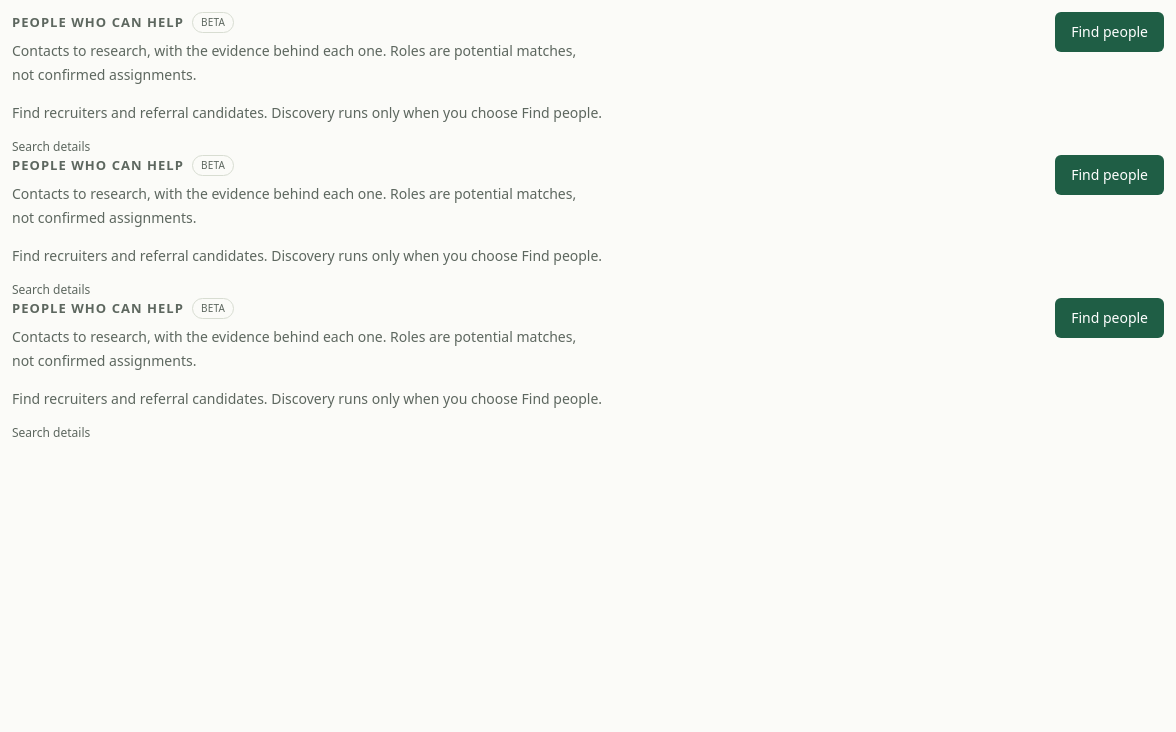
Test: People Who Can Help — three-company provider scenario › keeps one card's failure out of another card's state
This screenshot has width=1176, height=732.
What coordinates should you click on to do the following:
click the 1st button "Find people"
I would click on:
 (1110, 32)
Its box is [1055,12,1164,52].
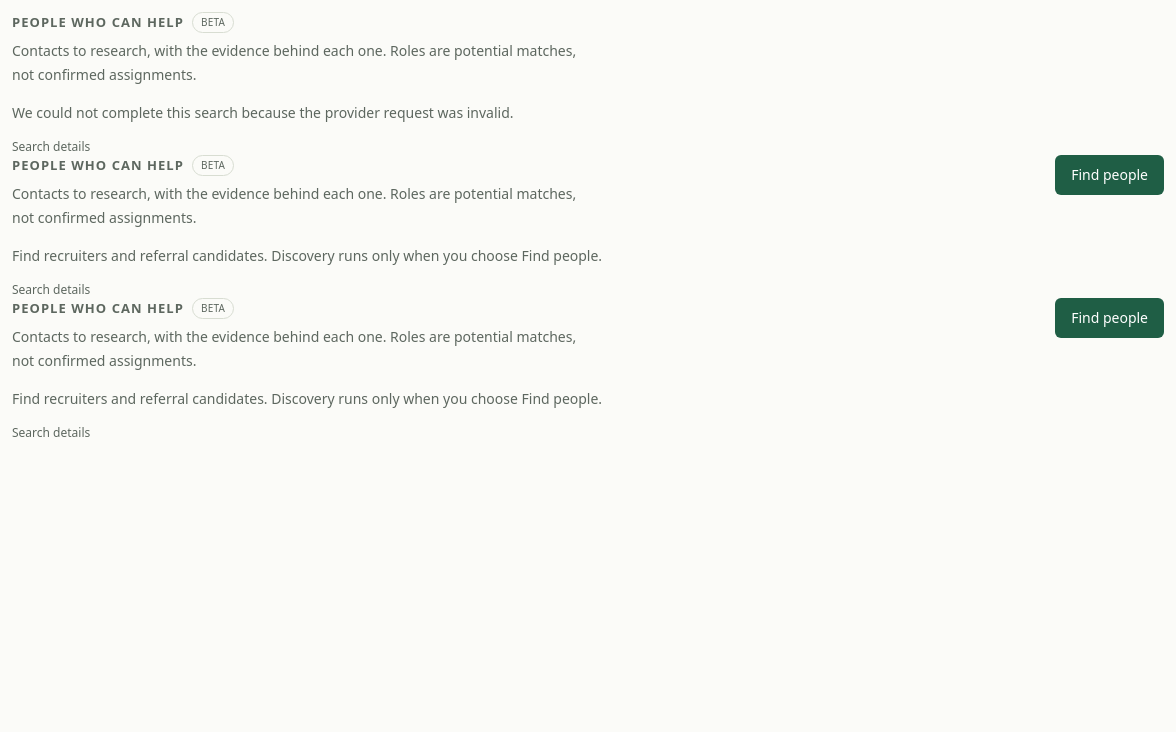
Expected: the 1st button "Find people" is shown, [1055,155,1164,195]
Now the text "We could not complete this search because the provider request was invalid." is shown, box [12,103,514,122]
What coordinates should you click on to do the following:
click the 2nd button "Find people"
I would click on:
 (1110, 318)
Its box is [1055,298,1164,338].
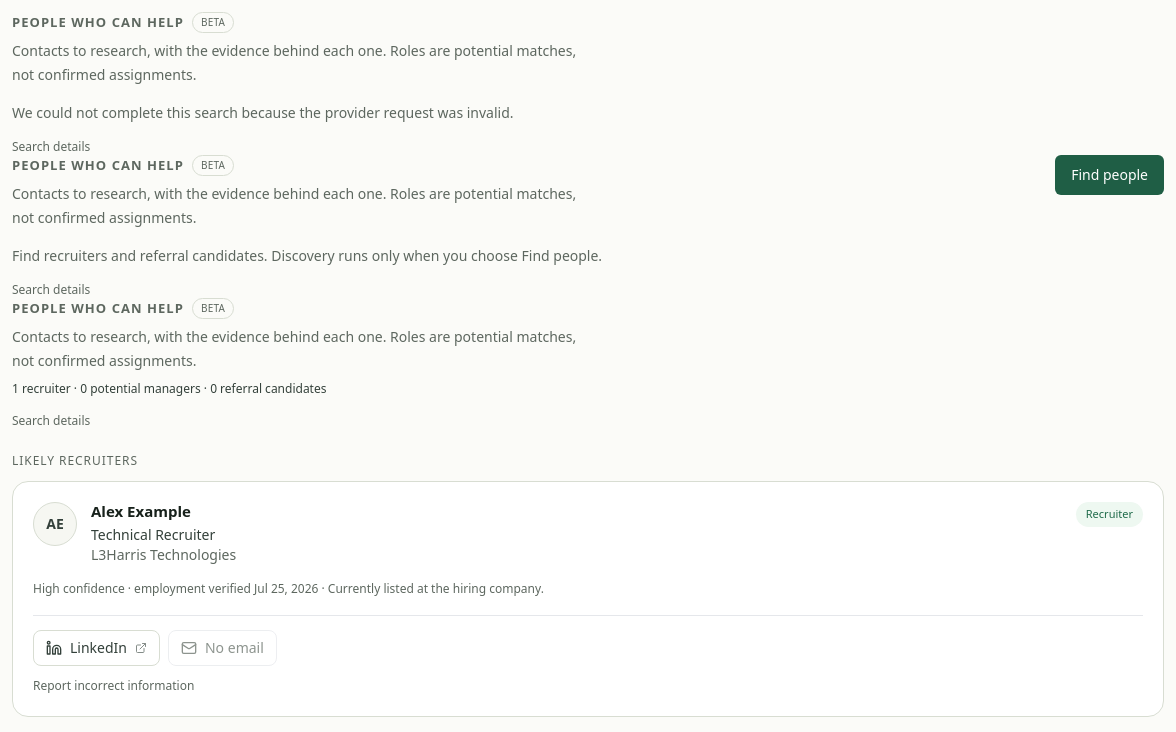
Now the heading "Alex Example" is shown, box [91,501,191,521]
